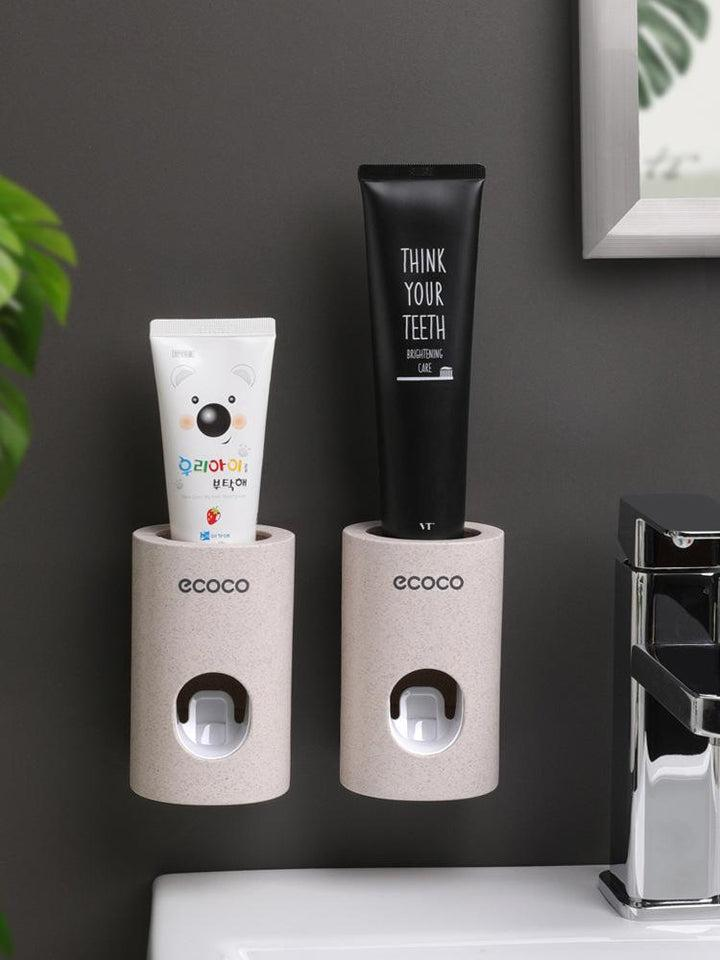toothpaste: (352, 158, 493, 550), (132, 310, 279, 564)
